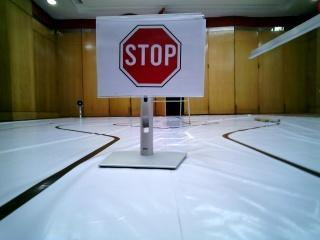stop: (109, 19, 199, 96)
